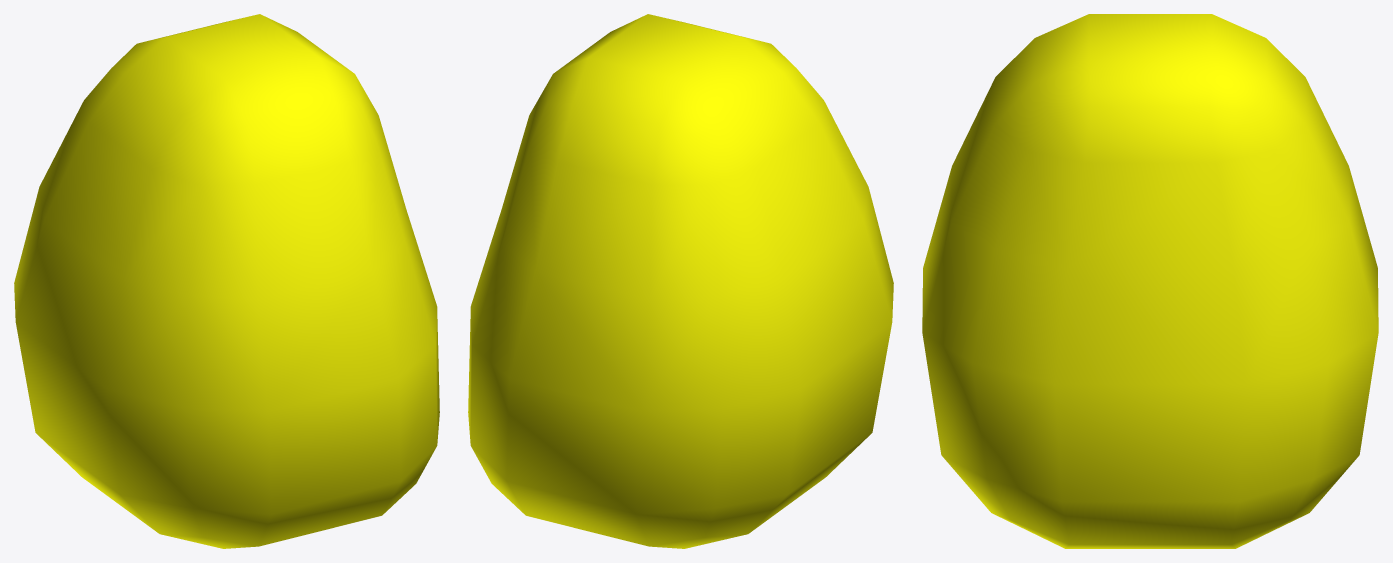
File: kaykit-food-ingredient-potato.glb
3 views of the same model, side by side, from view 1: azimuth 30°, elevation 25°; view 2: azimuth 150°, elevation 25°; view 3: azimuth 270°, elevation 25° (orthographic). The views are drawn at different scales.
Visible parts, largest first — view 1: food_ingredient_potato; view 2: food_ingredient_potato; view 3: food_ingredient_potato.
Boxes of the visible parts, x1=… form: food_ingredient_potato: x1=14, y1=14, x2=439, y2=548; food_ingredient_potato: x1=468, y1=14, x2=893, y2=548; food_ingredient_potato: x1=922, y1=14, x2=1378, y2=548.
Size of the model in its own units: 0.6 by 0.78 by 0.68.
